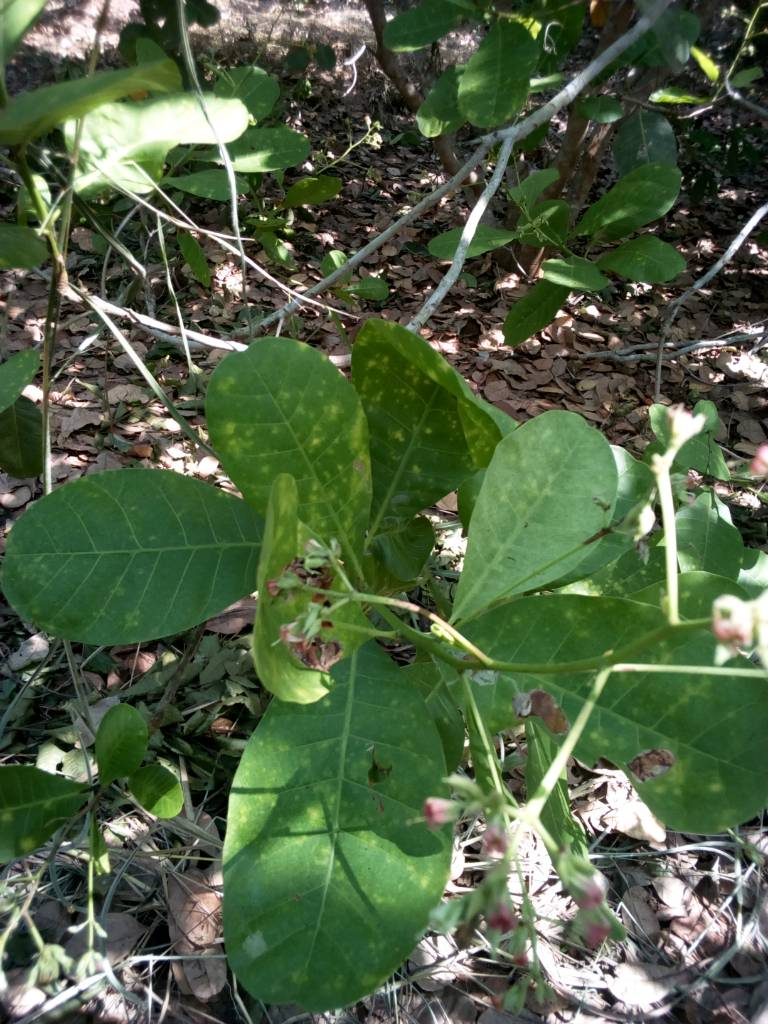Carence minérale: (347, 319, 547, 550), (194, 341, 385, 536)
